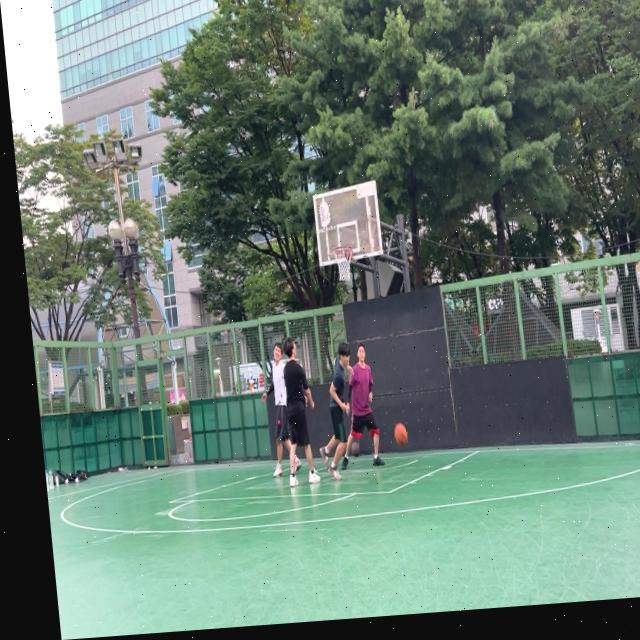basketball: (394, 423, 409, 448), (350, 441, 362, 458)
hoop: (332, 245, 356, 282)
